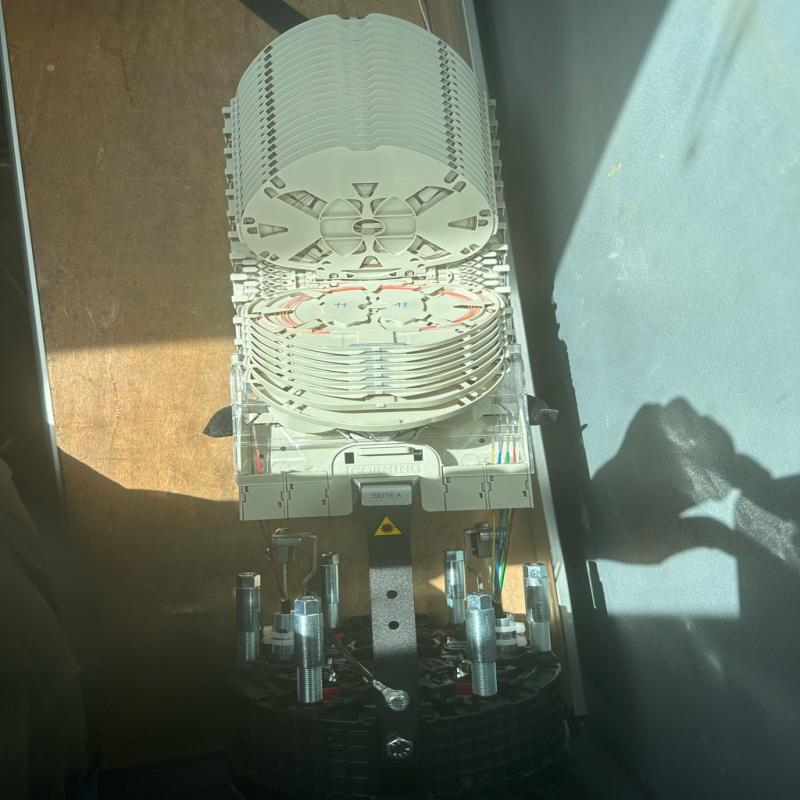NT-Muffen: (210, 5, 576, 796)
